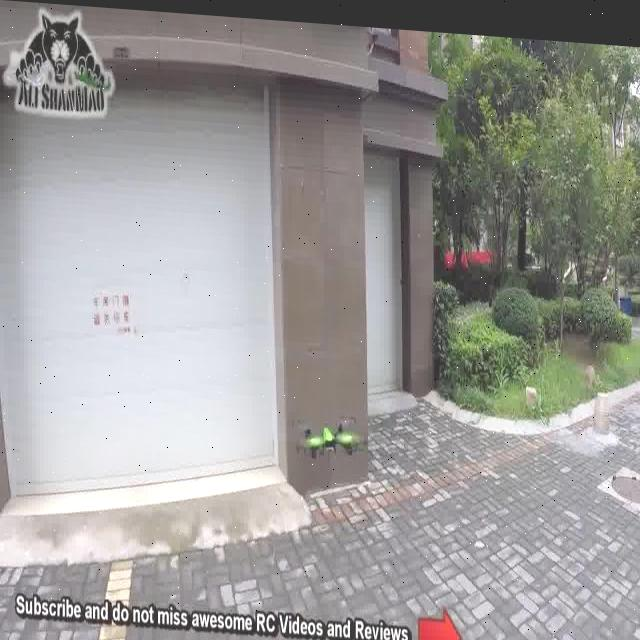drone: (288, 402, 364, 472)
